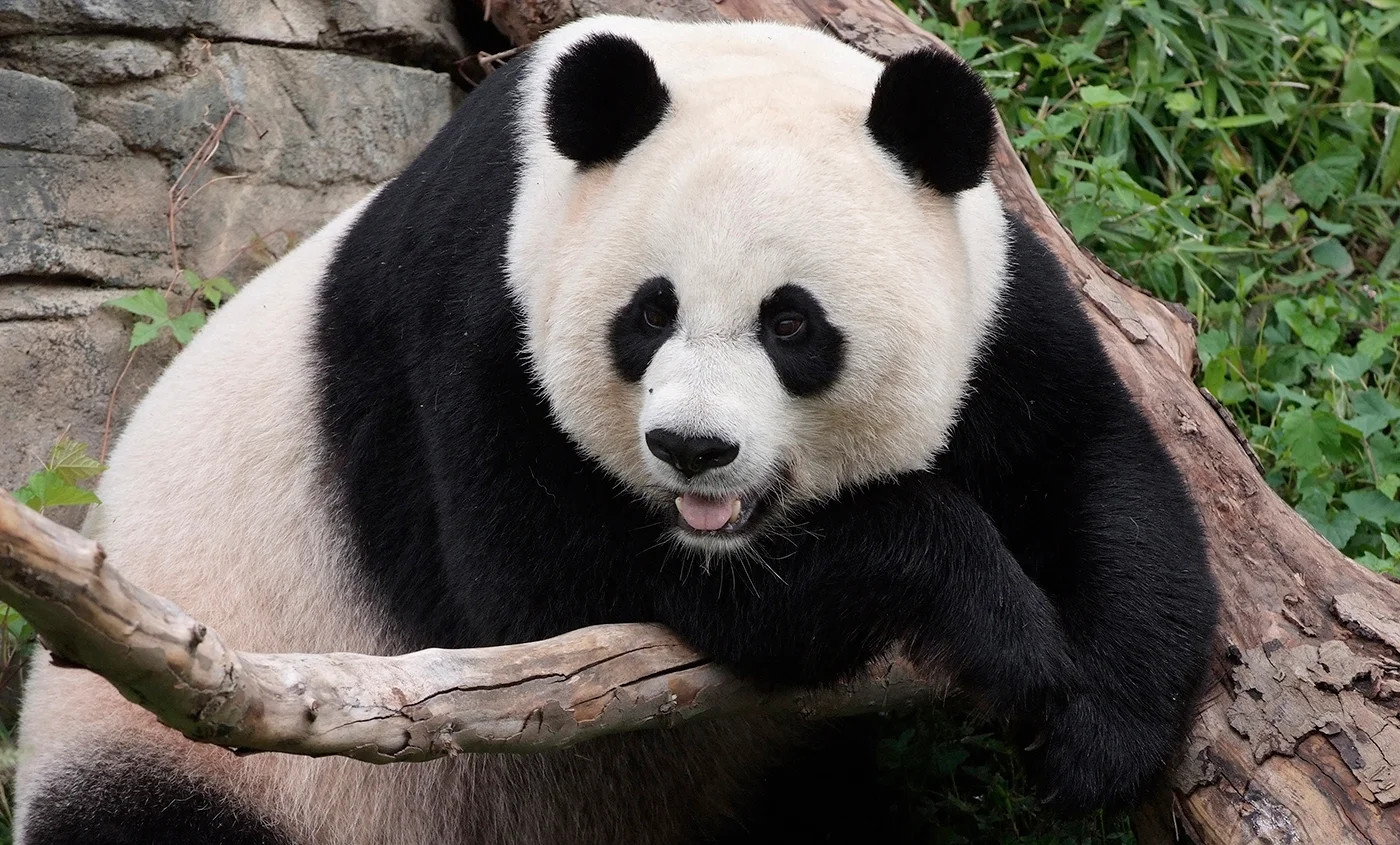Giant panda: (501, 20, 1012, 560)
